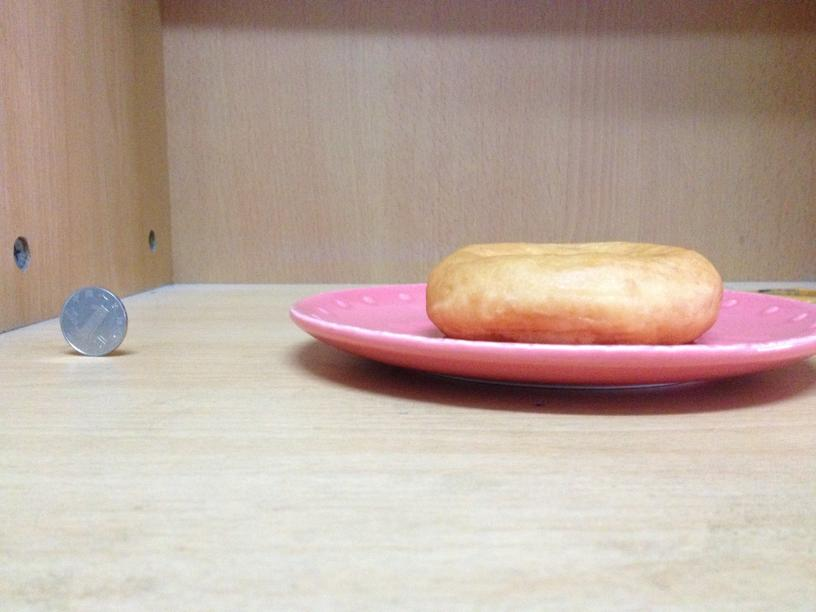coin: (57, 290, 128, 353)
doughnut: (427, 241, 719, 342)
